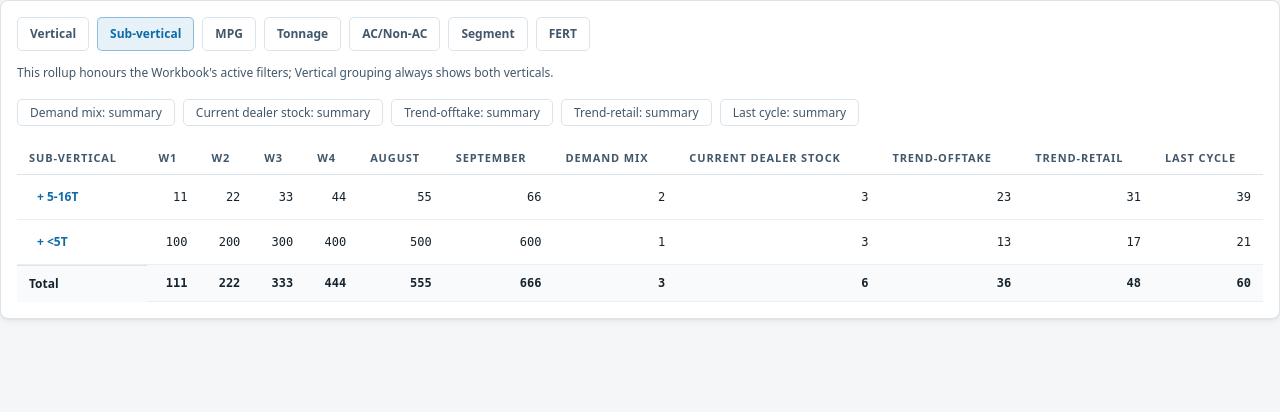
RollupTable › expands a group to reveal indented child FERT rows and flips the button label
Click the button named "Expand 5-16T".
click(58, 197)  # box [29, 183, 86, 211]
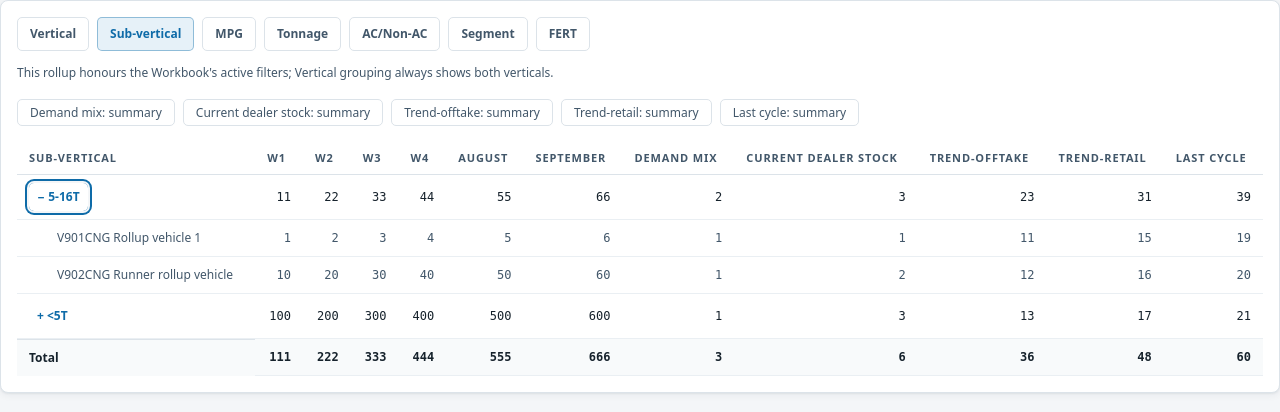
Result: the button named "Collapse 5-16T" is shown at [29, 183, 88, 211]
Result: the row "V901CNG Rollup vehicle 1 1 2 3 4 5 6 1 1 11 15 19" is shown at [17, 220, 1263, 257]
Result: the row "V902CNG Runner rollup vehicle 10 20 30 40 50 60 1 2 12 16 20" is shown at [17, 257, 1263, 294]
